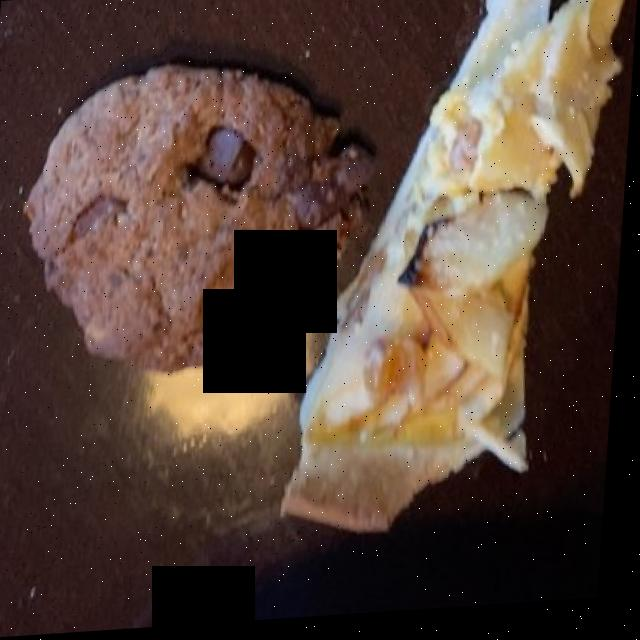apple-pie: (300, 0, 621, 528)
chocolate-cookies: (33, 70, 374, 366)
